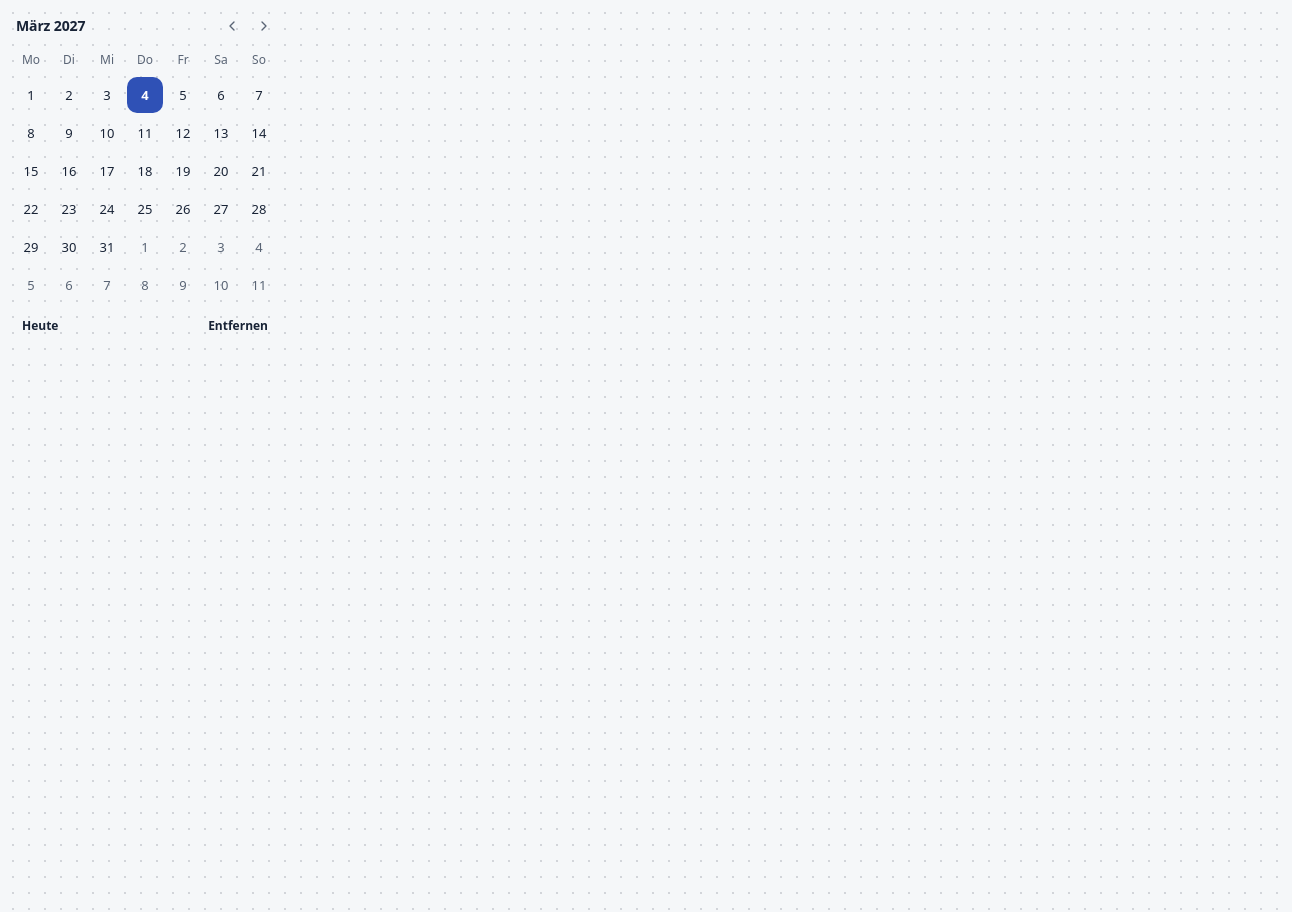
Test case: Calendar › "Heute" jumps to today, chooses it and puts the focus on it
Expected: the text "März 2027" is shown, [16,16,85,35]
Click the button "Heute": (40, 326) [12,312,68,340]
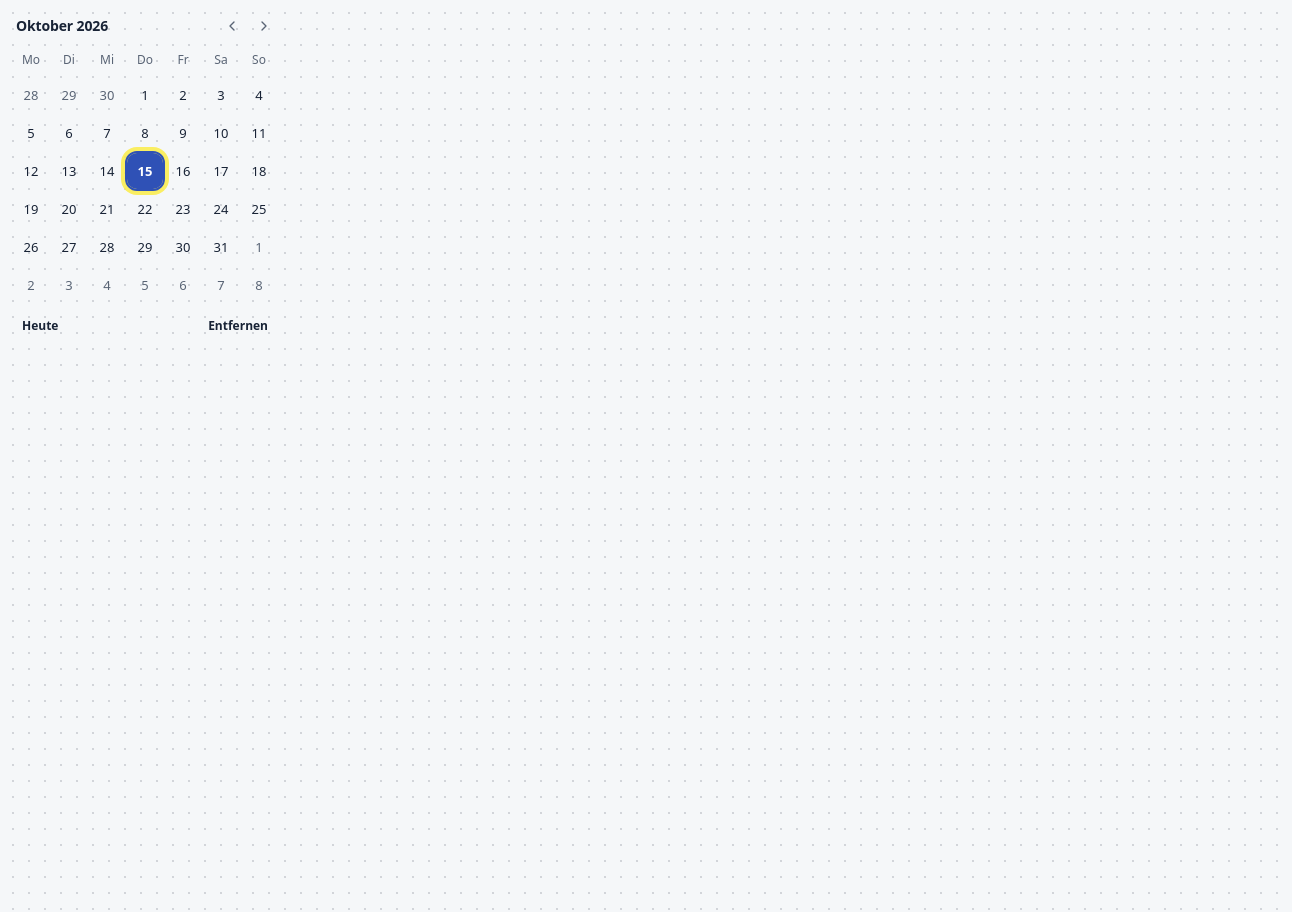
Result: the text "Oktober 2026" is shown at [16,16,108,35]
